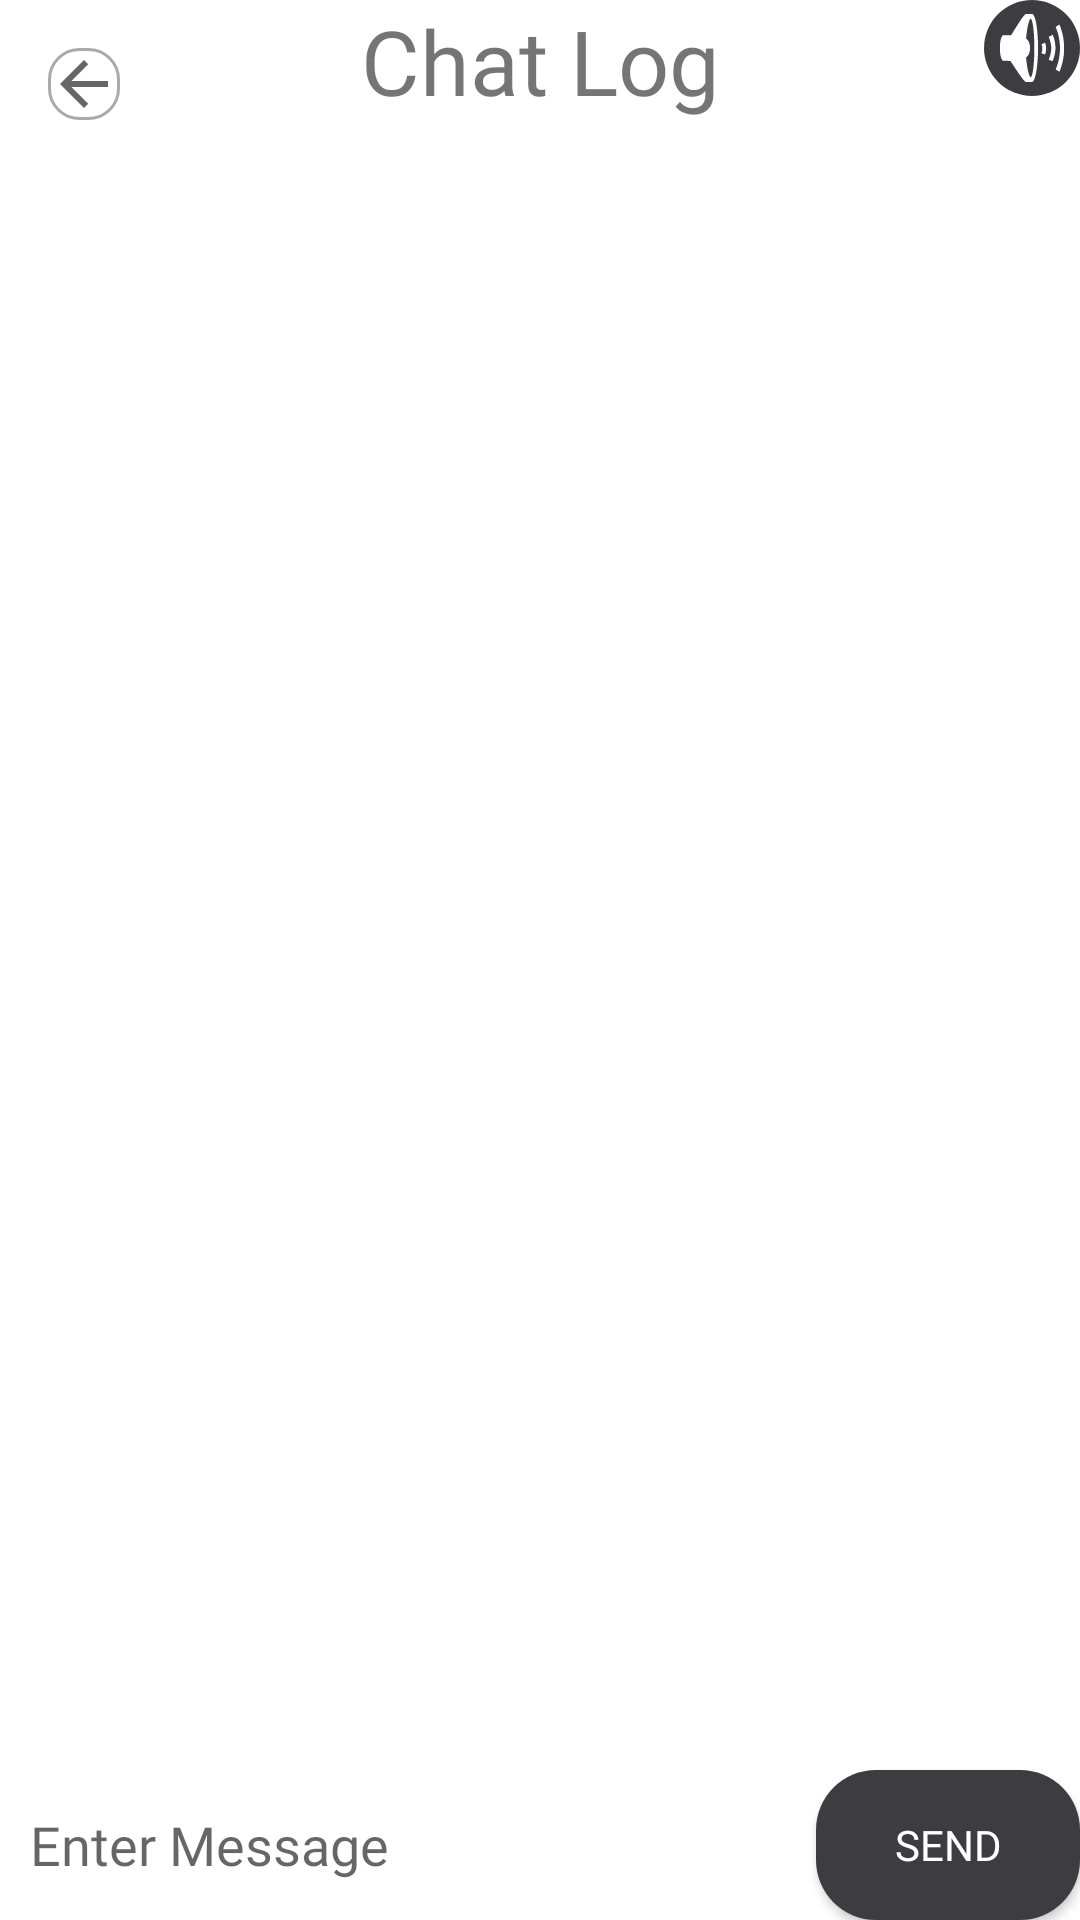

Icon click points for this 1080w x 1920h phone screenshot, format (x,y):
lock silent mode off: (1032,48)
